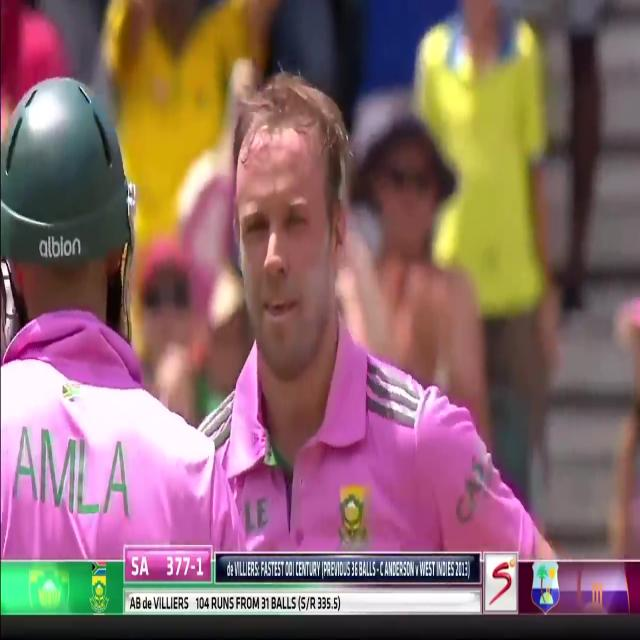Ball: (174, 17, 535, 555), (0, 80, 223, 571)
